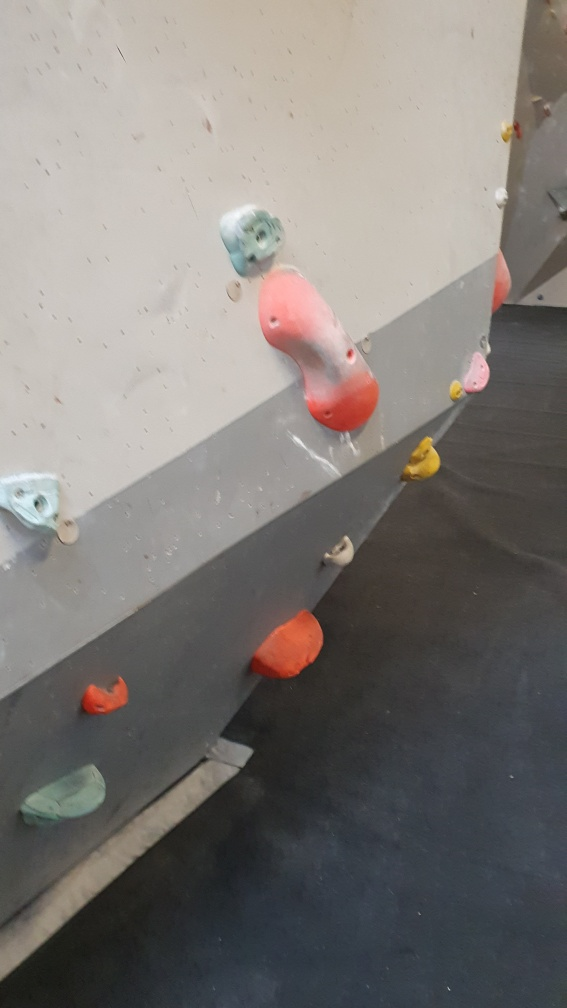Pinch: (257, 262, 380, 433)
